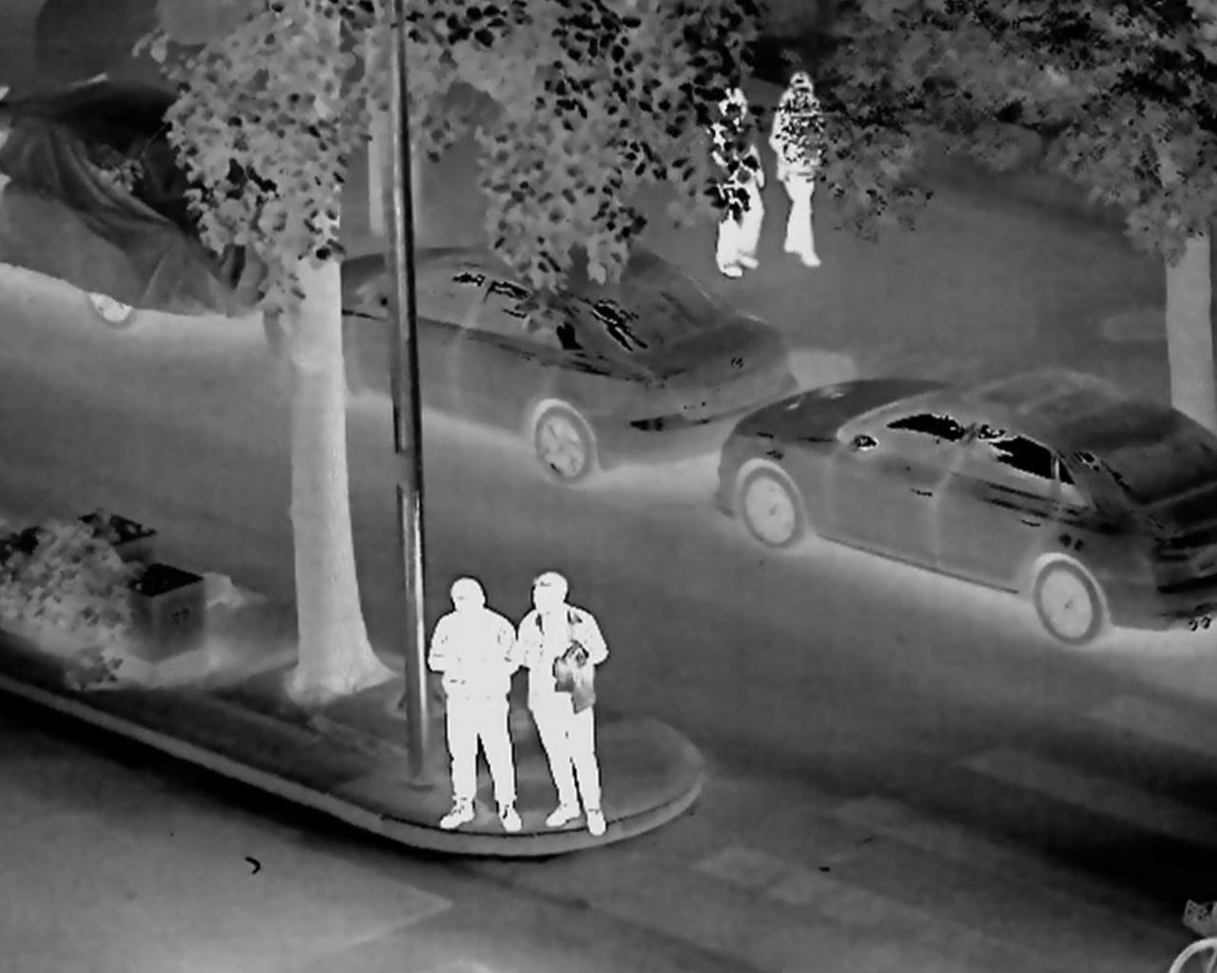person: (493, 556, 613, 834), (436, 577, 528, 829), (763, 59, 836, 290), (694, 80, 759, 277)
